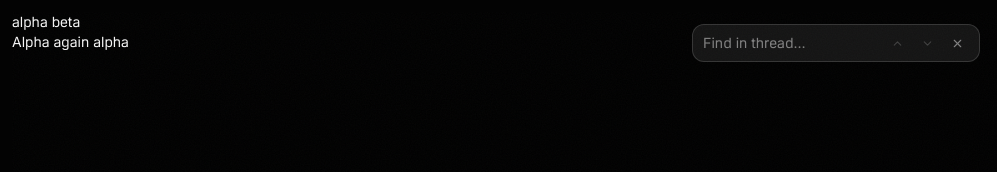
Scenario: ThreadSearchBar › says No matches for a query that does not occur
In the field labelled "Find in thread": (791, 43) top-left (703, 33), bottom-right (879, 53), type "zzz"
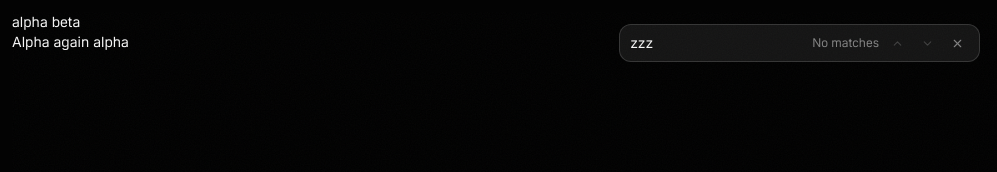
Expected: the button named "Next match" is disabled, top-left (915, 31), bottom-right (939, 55)
Expected: the text "No matches" is shown, top-left (812, 35), bottom-right (879, 51)
